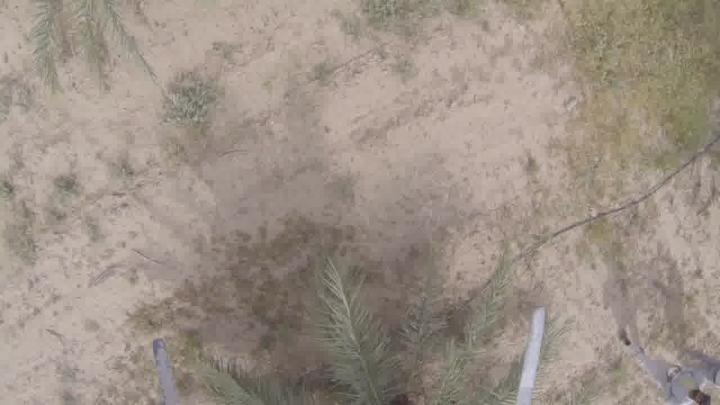Date-Palm-Crown: (282, 363, 494, 405)
